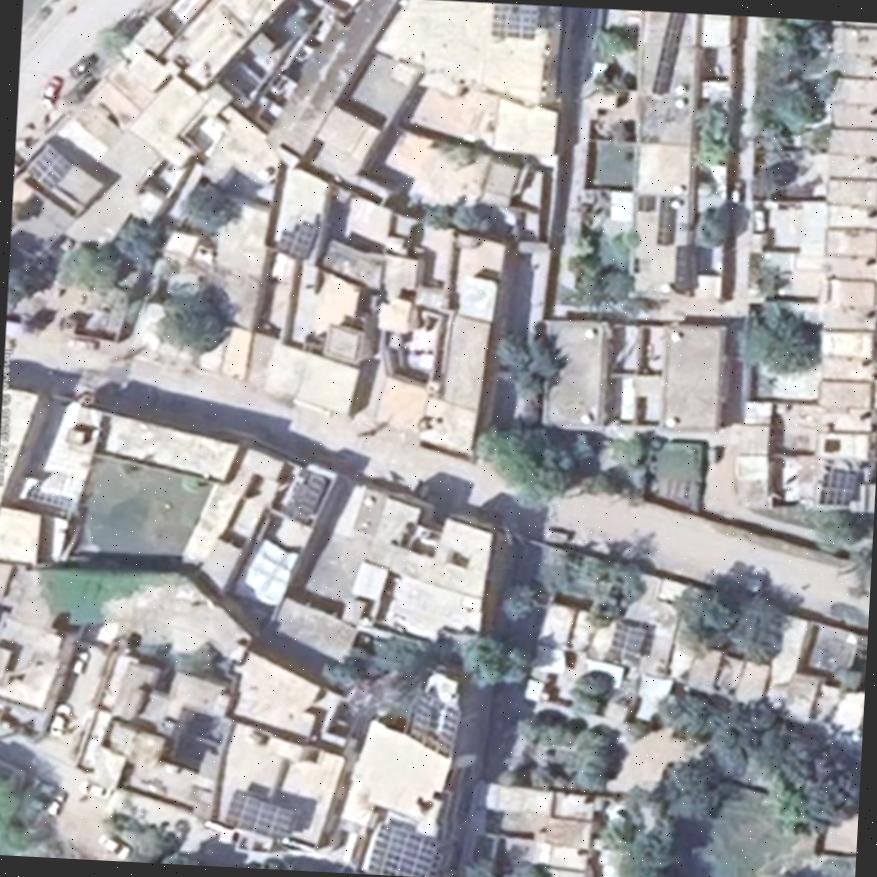Solarpanel: (366, 822, 437, 876), (400, 695, 460, 758), (222, 792, 293, 842), (268, 469, 330, 522), (653, 12, 685, 96), (23, 143, 73, 189), (277, 217, 318, 258), (493, 3, 537, 40), (607, 621, 645, 663), (818, 472, 856, 510), (657, 196, 674, 245), (637, 195, 657, 213)
